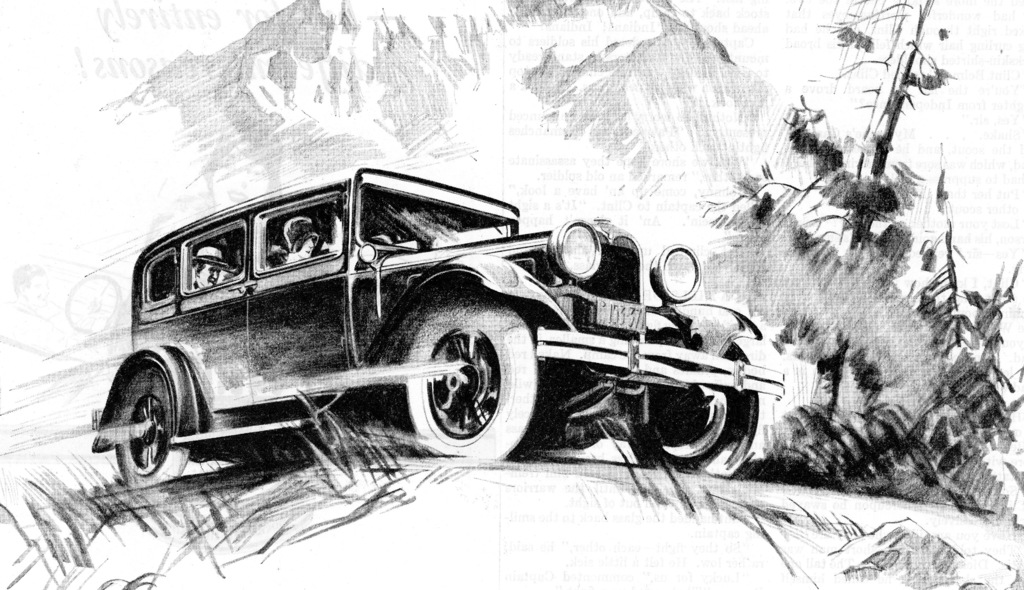Car: (87, 165, 782, 475)
